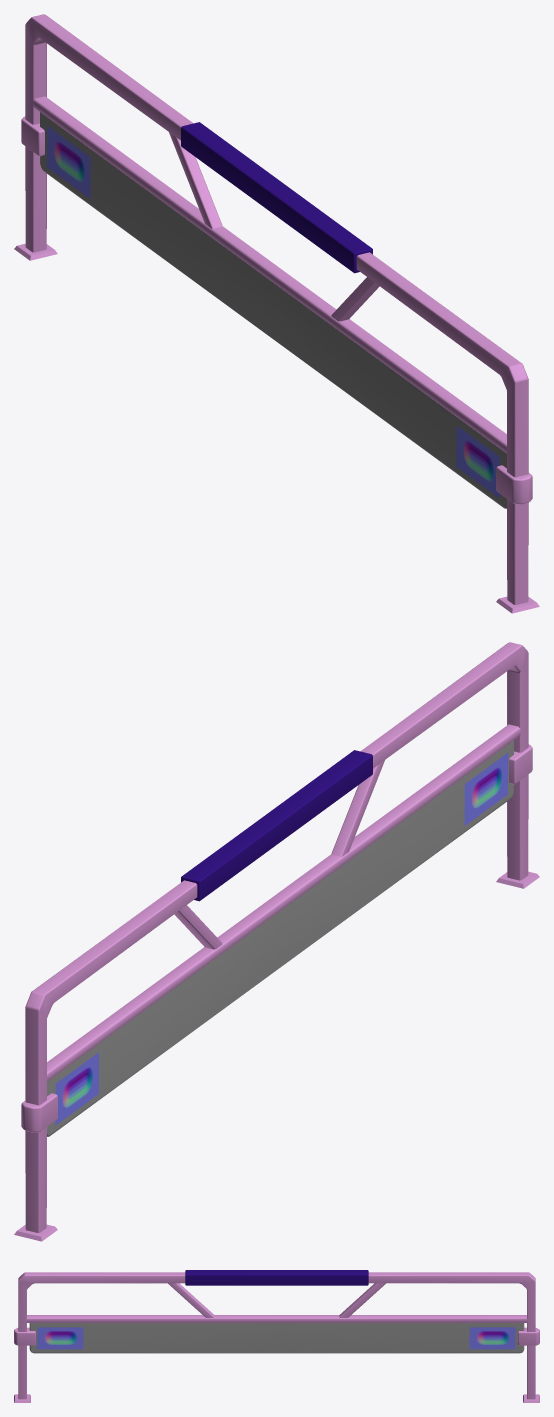
The model's file is BridgeRailing.FBX.
The picture shows the model from 3 angles, top to bottom: view 1: azimuth 30°, elevation 25°; view 2: azimuth 150°, elevation 25°; view 3: azimuth 270°, elevation 25°; orthographic projection. The views are drawn at different scales.
Parts seen in each view (by area): view 1: Line001, Object009, Box024, Line002, Object011, Object010, Box022, Box023; view 2: Line001, Object009, Box024, Line002, Object010, Object011, Box022, Box023; view 3: Object009, Line001, Box024, Object012, Object013, Line002, Box022, Box023.
Part boxes in pixels (x1,y1,x2,y2): Line001: (25, 14, 528, 604); Object009: (40, 112, 506, 508); Box024: (33, 96, 506, 453); Line002: (169, 132, 379, 321); Object011: (47, 126, 90, 198); Object010: (456, 425, 499, 497); Box022: (21, 116, 532, 504); Box023: (14, 243, 539, 613); Line001: (25, 642, 528, 1232); Object009: (47, 740, 513, 1136); Box024: (47, 724, 520, 1081); Line002: (174, 760, 384, 949); Object010: (464, 753, 508, 825); Object011: (55, 1052, 98, 1125); Box022: (21, 744, 532, 1132); Box023: (14, 871, 539, 1241); Object009: (29, 1323, 524, 1353); Line001: (18, 1270, 535, 1399); Box024: (26, 1315, 527, 1322); Object012: (469, 1327, 515, 1349); Object013: (37, 1327, 83, 1349); Line002: (168, 1283, 385, 1317); Box022: (14, 1327, 539, 1345); Box023: (14, 1394, 539, 1402).
Bounding box in the file's own units: 3.03 × 25.05 × 93.67.
